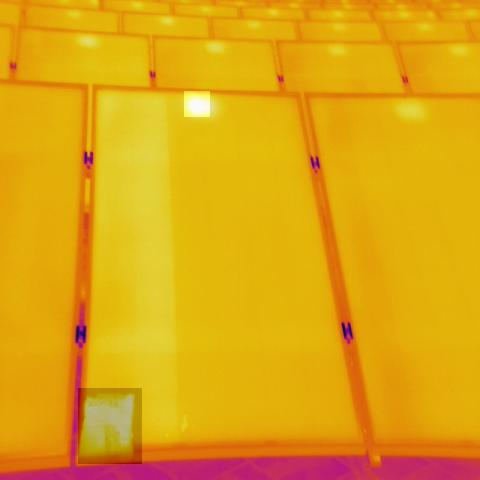fault: (78, 388, 142, 464), (184, 91, 210, 117)
